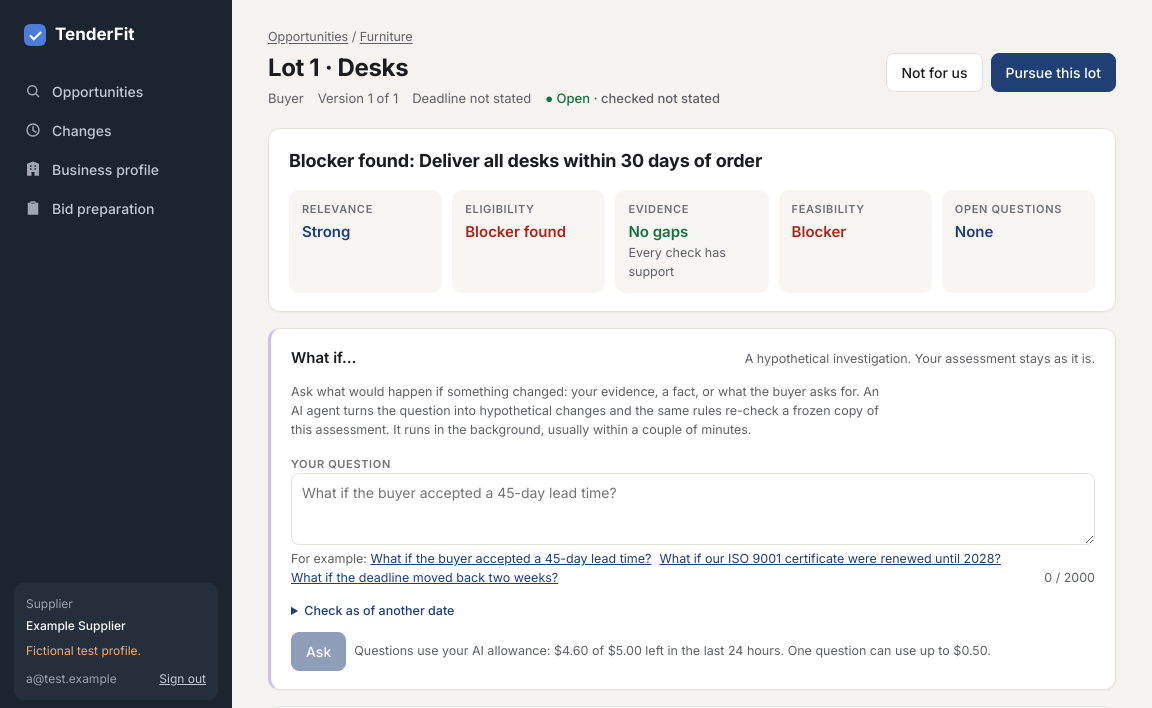
asking a what-if question › daily allowance used up: the amount left and when it frees up
In the text box labelled "Your question": point(693, 509) [291,473,1095,545], type "What if the buyer accepted our 45-day lead time?"
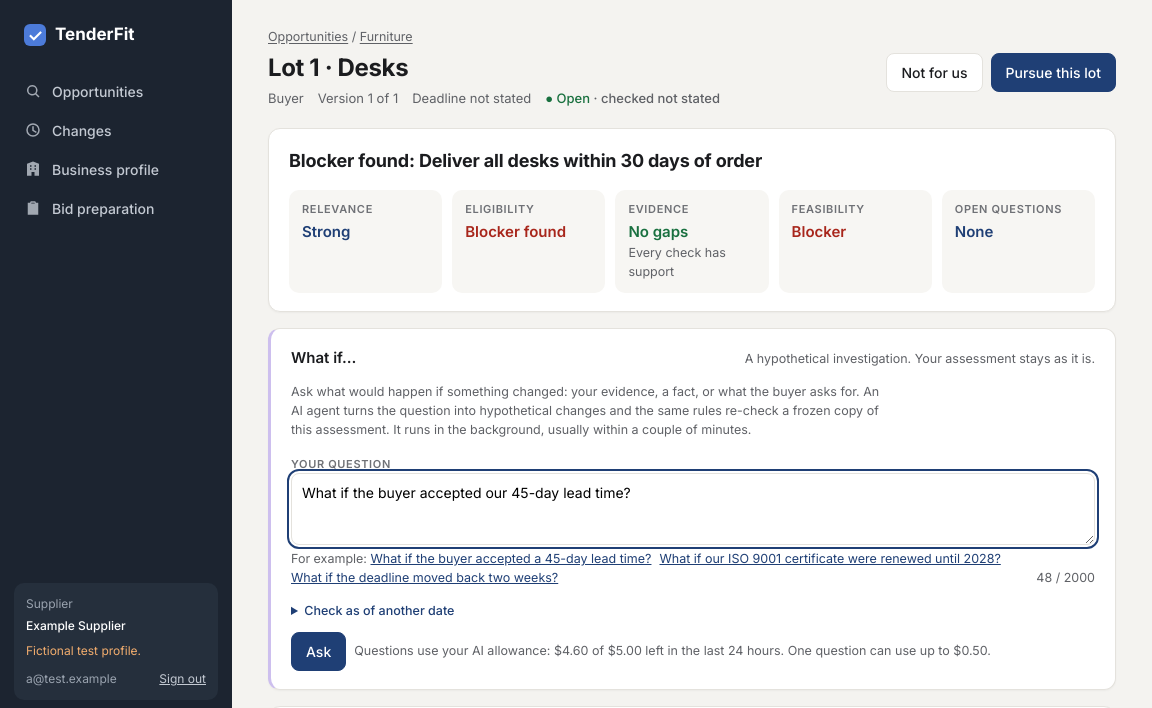
Click the button "Ask": point(319, 652) [291,632,346,671]
(page scrolled)
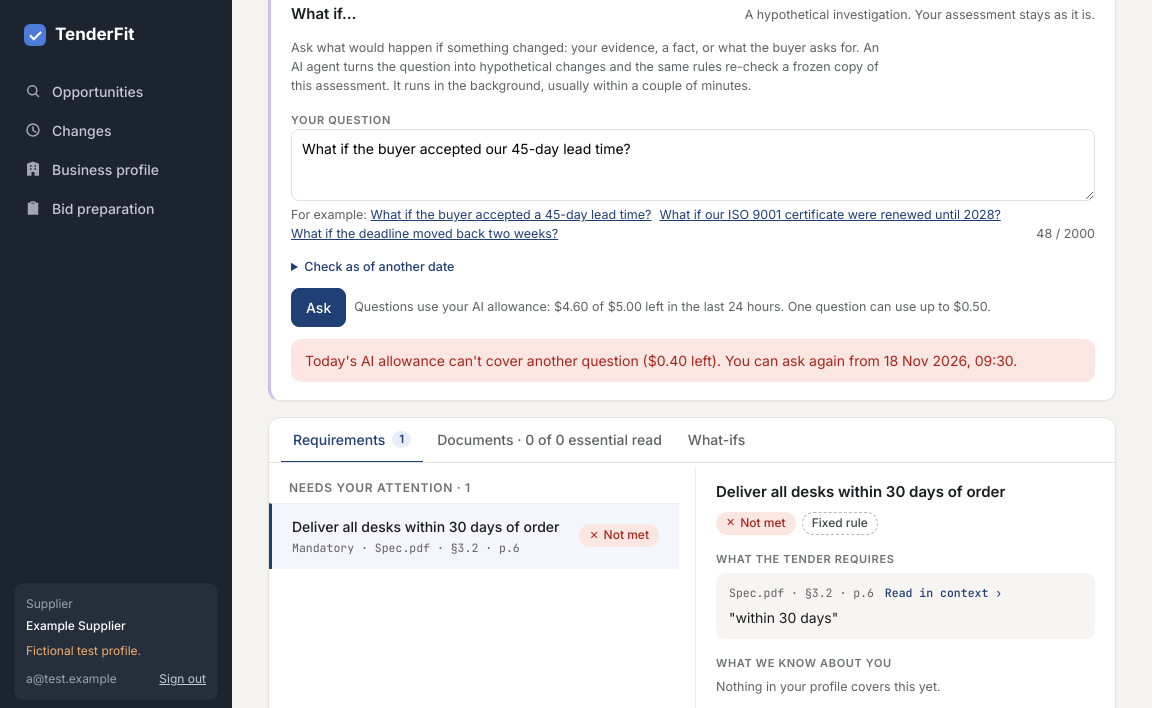
Now the message shows "($0.40 left)", box [639,352,717,369]
Now the message shows "You can ask again from 18 Nov 2026", box [721,352,1017,369]
